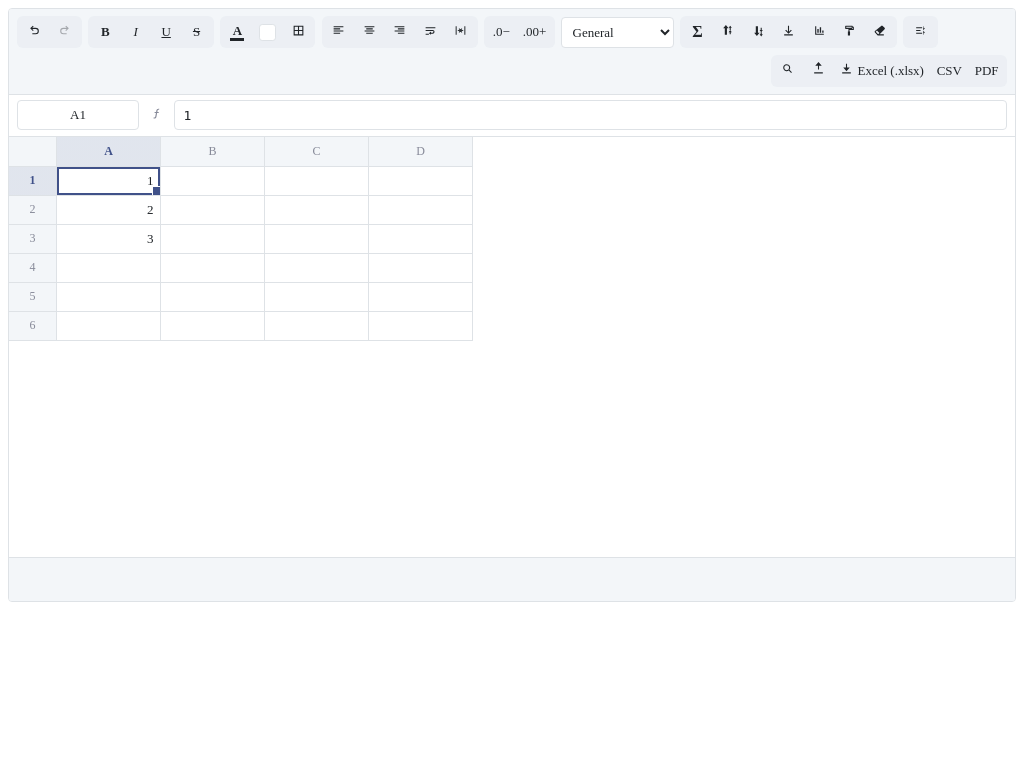
Test case: WeSheetComponent › selects a range with Shift and shows its statistics
Press the mouse on the cell "1" at (109, 181), box x1=57 y1=166 x2=161 y2=196
Press the mouse on the cell "3" at (109, 239), box x1=57 y1=224 x2=161 y2=254
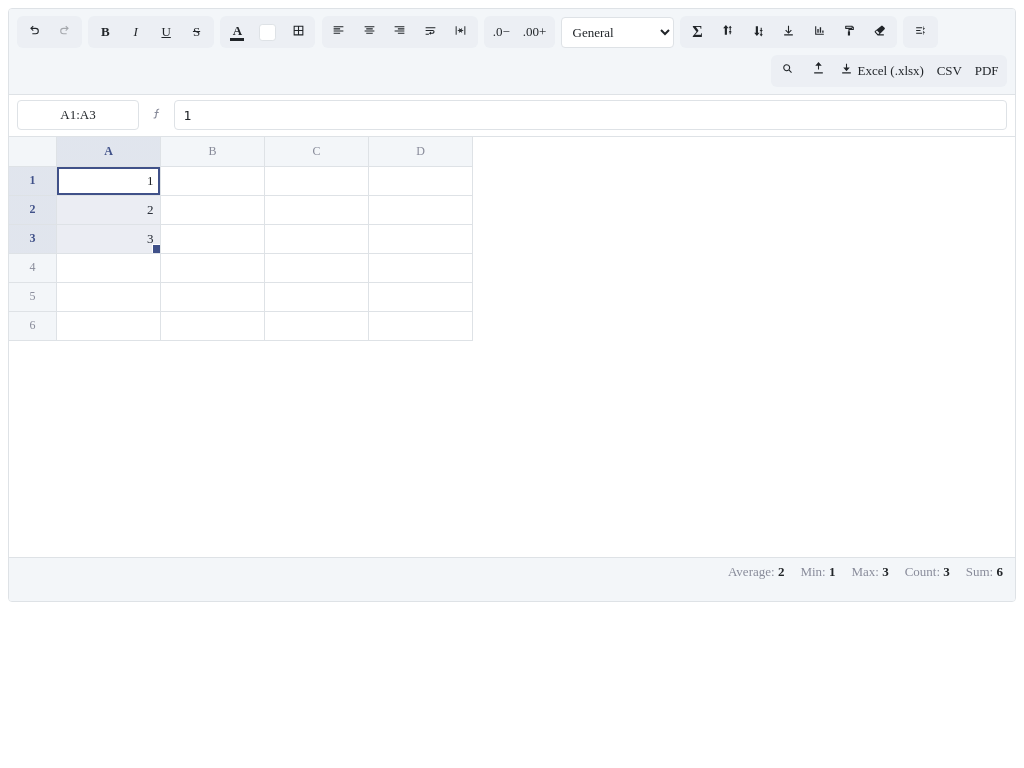
Expected: the element with class "we-sheet__status" shows "6", x1=996 y1=564 x2=1003 y2=579
